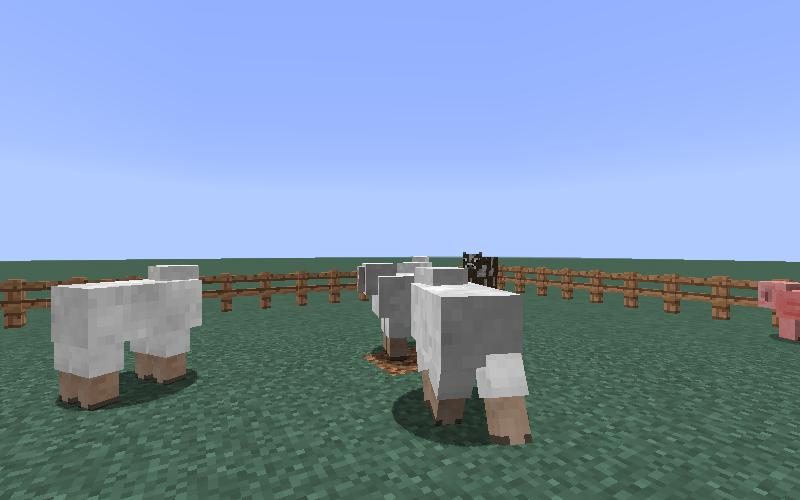cow: (461, 252, 500, 287)
sheep: (43, 255, 206, 413), (407, 264, 540, 452), (356, 262, 413, 361)
